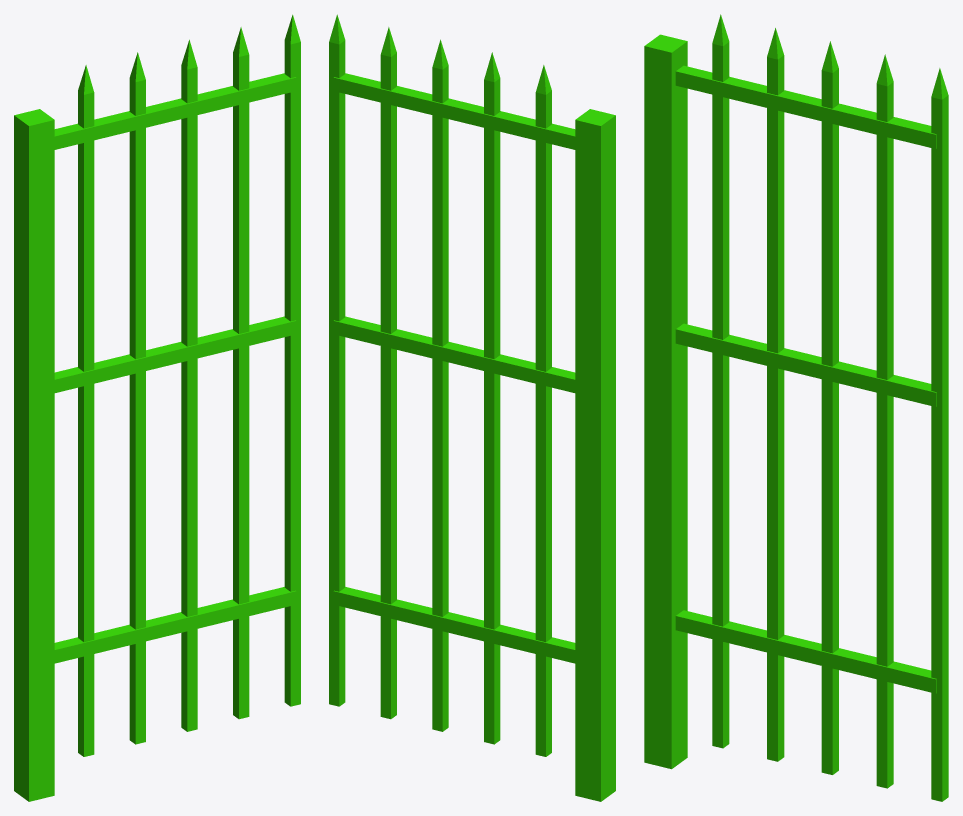
Rendered from fence3_02.fbx.
3 views of the same model, side by side, from view 1: azimuth 30°, elevation 25°; view 2: azimuth 150°, elevation 25°; view 3: azimuth 330°, elevation 25° (orthographic). The views are drawn at different scales.
Parts seen in each view (by area): view 1: fence3_02; view 2: fence3_02; view 3: fence3_02.
Part boxes in pixels (x1=…): fence3_02: x1=14, y1=14, x2=300, y2=801; fence3_02: x1=329, y1=14, x2=615, y2=801; fence3_02: x1=644, y1=14, x2=948, y2=801.
Bounding box in the file's own units: 107 × 265 × 10.
